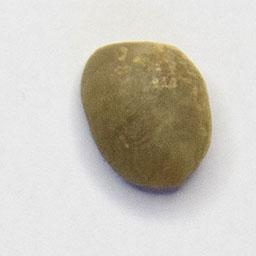premium: (77, 37, 216, 193)
